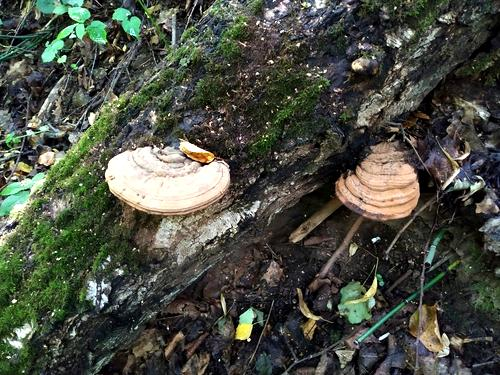Ganoderma - Fruit Body: (101, 147, 235, 218), (332, 156, 422, 225)
